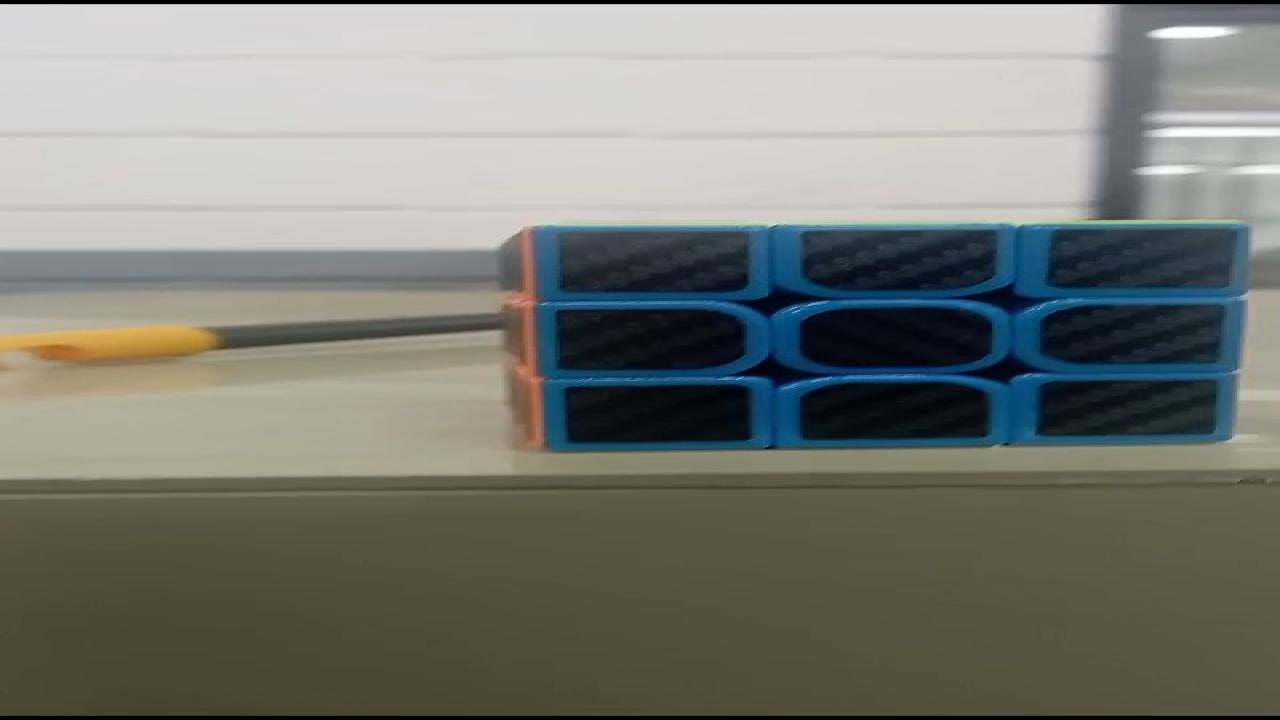Cube: (493, 218, 1254, 452)
